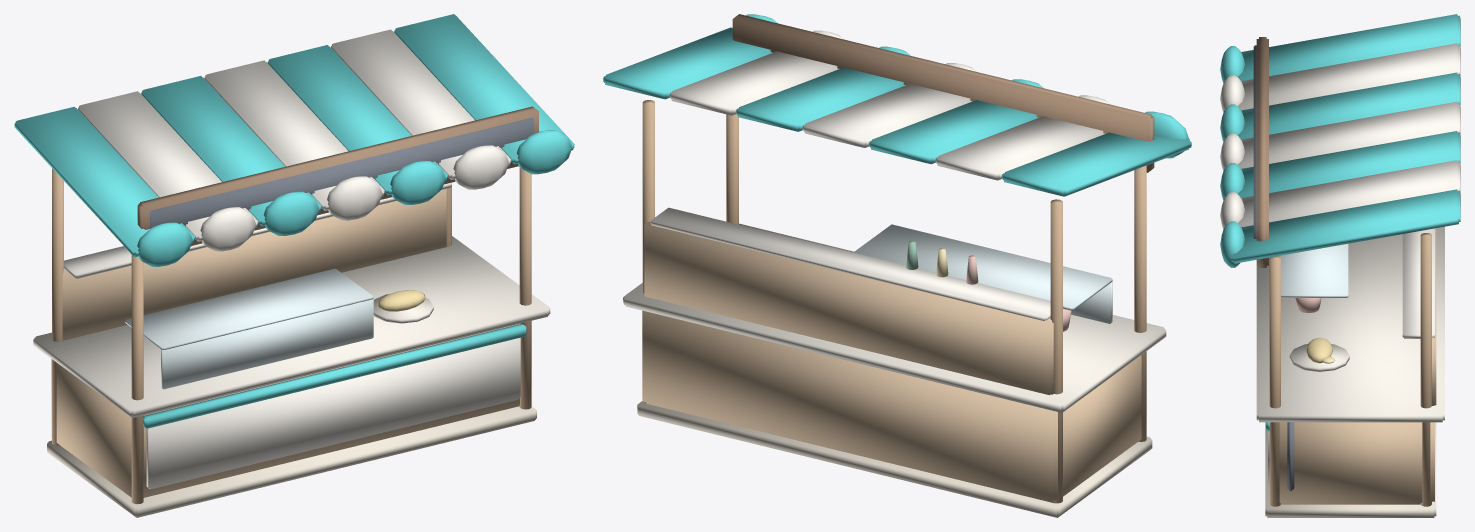
Rendered from RestaurantFriesKitchen.fbx.
3 views of the same model, side by side, from view 1: azimuth 30°, elevation 25°; view 2: azimuth 150°, elevation 25°; view 3: azimuth 270°, elevation 25° (orthographic). The views are drawn at different scales.
Visible parts, largest first — view 1: Estab_Base, Estab_CanopyFade; view 2: Estab_Base, Estab_CanopyFade; view 3: Estab_Base, Estab_CanopyFade.
Part boxes in pixels (x1,y1,x2,y2): Estab_Base: [33, 106, 550, 517]; Estab_CanopyFade: [14, 14, 574, 266]; Estab_Base: [623, 14, 1166, 517]; Estab_CanopyFade: [603, 14, 1191, 196]; Estab_Base: [1253, 37, 1444, 517]; Estab_CanopyFade: [1220, 14, 1460, 267].
Size of the model in its own units: 3.87 by 2.75 by 1.93.
